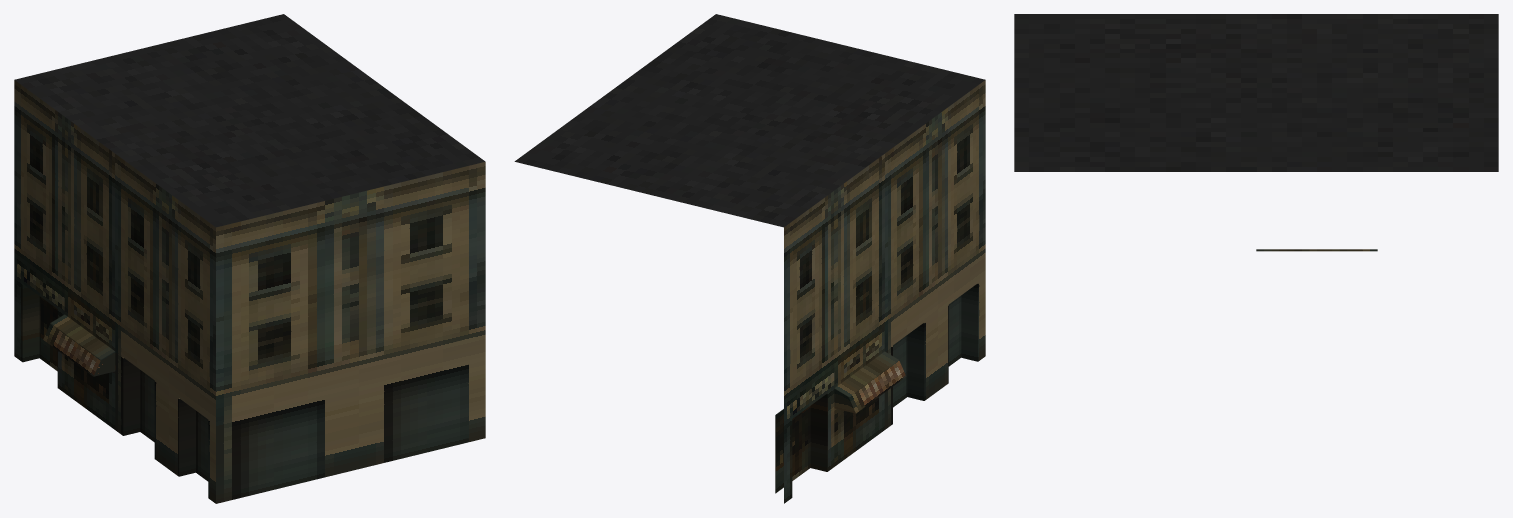
File: env_bld_mixeduse_poor.glb
3 renders of one model, left to right at view 1: azimuth 30°, elevation 25°; view 2: azimuth 150°, elevation 25°; view 3: azimuth 270°, elevation 25°, orthographic. The views are drawn at different scales.
Visible parts, largest first — view 1: env_bld_mixeduse_poor; view 2: env_bld_mixeduse_poor; view 3: env_bld_mixeduse_poor.
Boxes of the visible parts, x1,y1,x2,y2 form: env_bld_mixeduse_poor: [14, 14, 485, 503]; env_bld_mixeduse_poor: [514, 14, 985, 503]; env_bld_mixeduse_poor: [1014, 14, 1498, 251].
Bounding box in the file's own units: 0.0189 × 0.0172 × 0.0227.
Materials: 2 (2 with a texture image).
